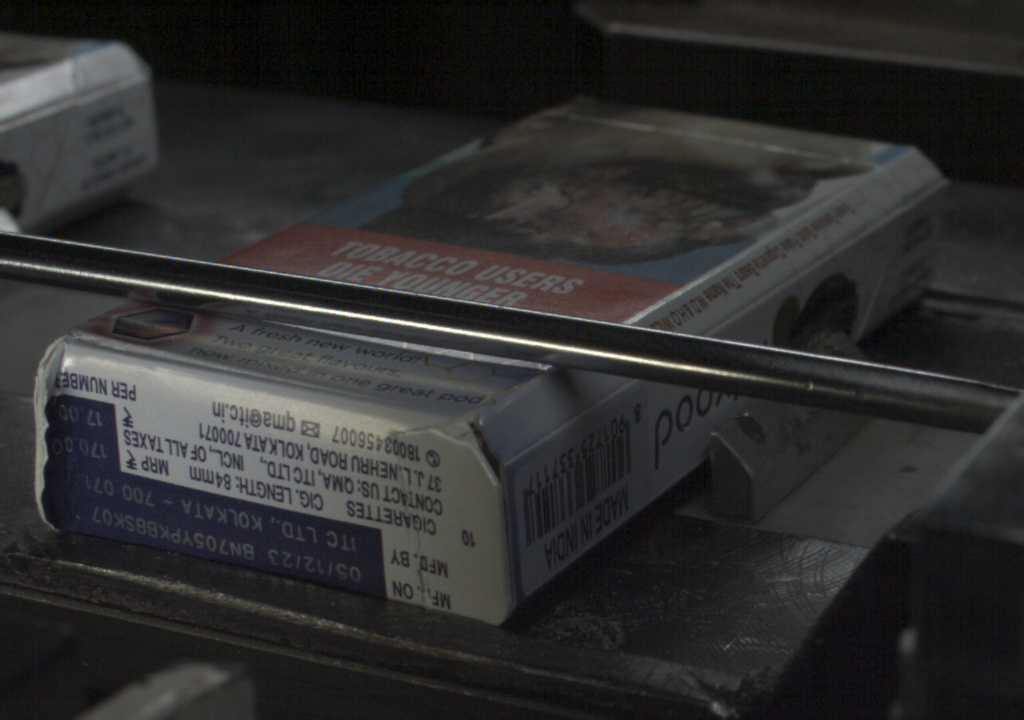g_label: (43, 474, 382, 597)
g_lmiter: (706, 264, 807, 332), (807, 207, 899, 264), (560, 377, 627, 421), (497, 421, 560, 464)
g_miter: (906, 168, 947, 208)
ng_bottom: (377, 419, 507, 493), (30, 338, 74, 532)
price: (46, 400, 123, 472)
